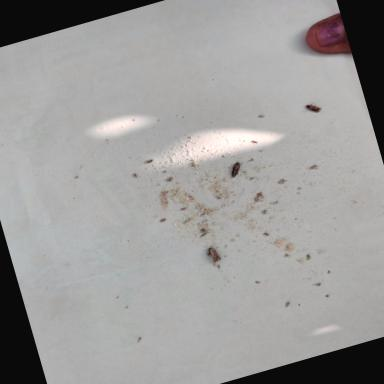pbw: (206, 244, 222, 266), (228, 159, 246, 178), (305, 101, 322, 115)
